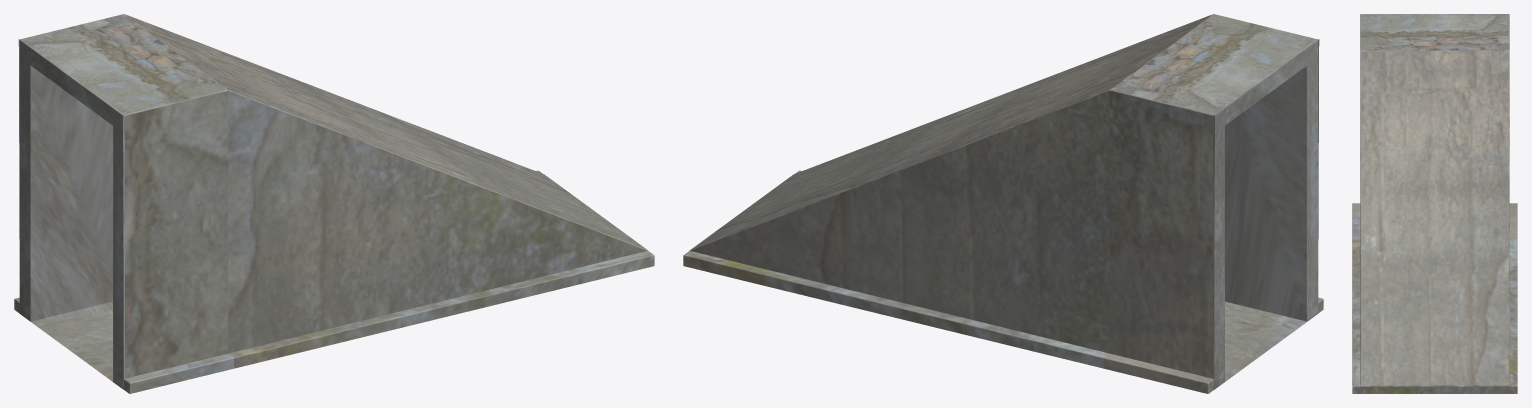
File: underground_enterance.glb
3 views of the same model, side by side, from view 1: azimuth 30°, elevation 25°; view 2: azimuth 150°, elevation 25°; view 3: azimuth 270°, elevation 25° (orthographic). The views are drawn at different scales.
Visible parts, largest first — view 1: Base; view 2: Base; view 3: Base.
Part boxes in pixels (bbox=[...]): Base: bbox=[14, 14, 654, 393]; Base: bbox=[683, 14, 1323, 393]; Base: bbox=[1352, 14, 1517, 393].
Bounding box in the file's own units: 4.99 × 2.49 × 1.9.
6 materials, 2 textured.
